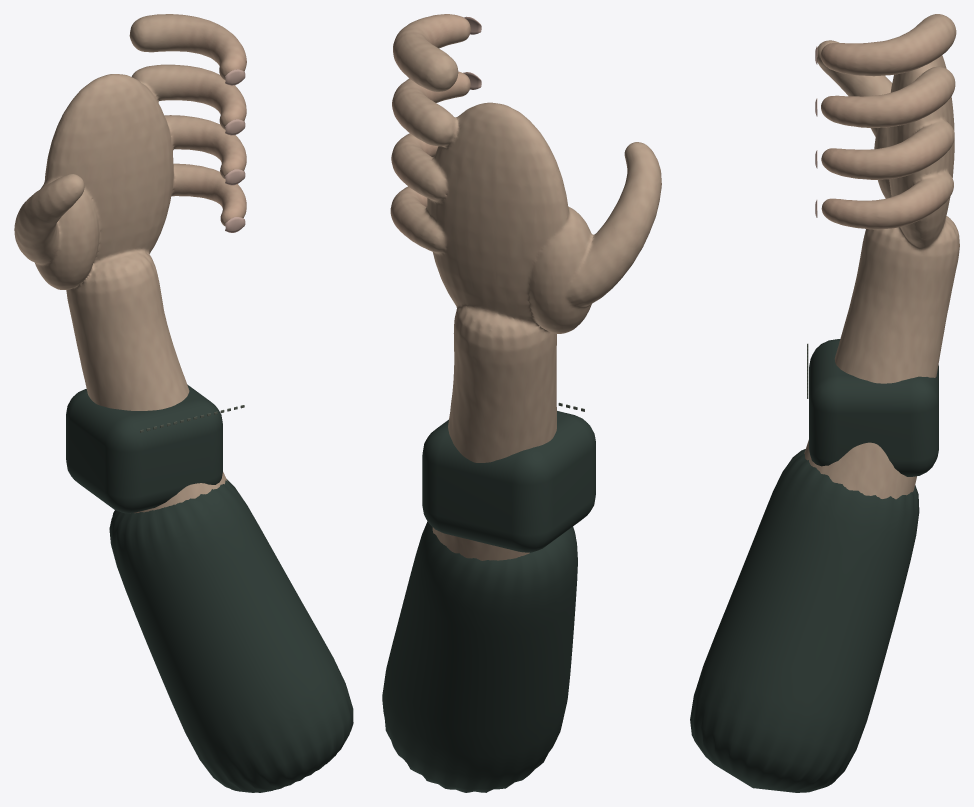
Rendered from phone-hand.glb.
3 renders of one model, left to right at view 1: azimuth 30°, elevation 25°; view 2: azimuth 150°, elevation 25°; view 3: azimuth 270°, elevation 25°, orthographic. The views are drawn at different scales.
Visible parts, largest first — view 1: Nightguard woven cuff, Phone hand skin; view 2: Phone hand skin, Nightguard woven cuff; view 3: Nightguard woven cuff, Phone hand skin.
Part boxes in pixels (x1,y1,x2,y2): Nightguard woven cuff: (66,384,353,792); Phone hand skin: (14,14,246,513); Phone hand skin: (390,14,661,560); Nightguard woven cuff: (382,411,595,792); Nightguard woven cuff: (690,339,938,792); Phone hand skin: (804,14,959,499).
Size of the model in its own units: 0.1273 by 0.3185 by 0.1037.
